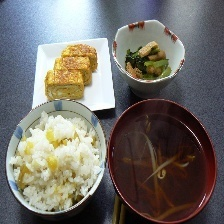rice: (7, 111, 103, 212)
